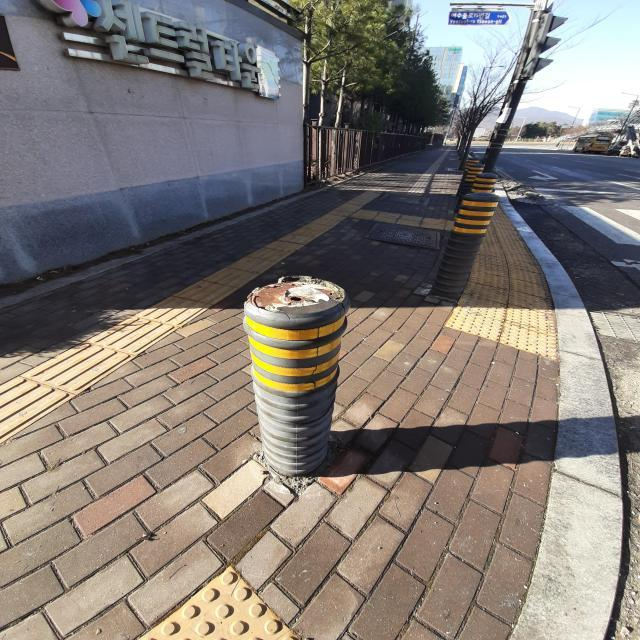pole: (248, 274, 348, 476)
